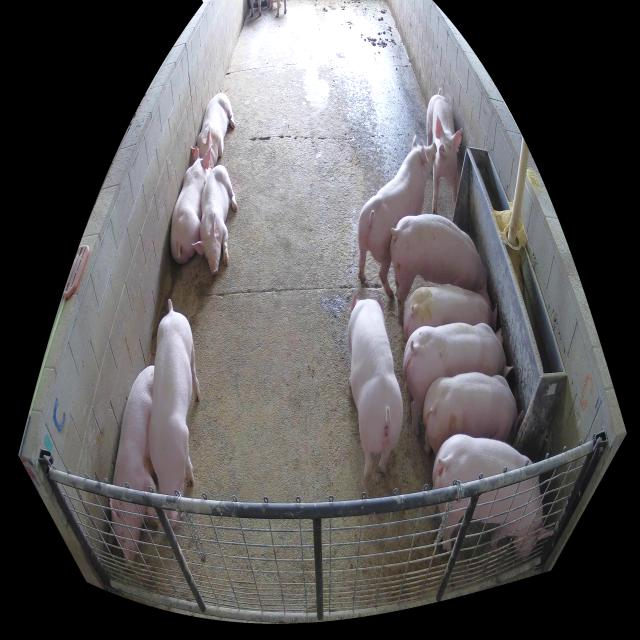pig: (426, 434, 554, 564), (358, 135, 437, 300), (405, 324, 513, 441), (108, 363, 166, 572), (391, 214, 492, 328), (150, 300, 200, 529), (348, 292, 402, 479), (422, 372, 524, 456), (404, 284, 498, 345), (192, 165, 238, 275), (171, 148, 212, 265), (427, 89, 462, 214), (196, 93, 236, 169)
